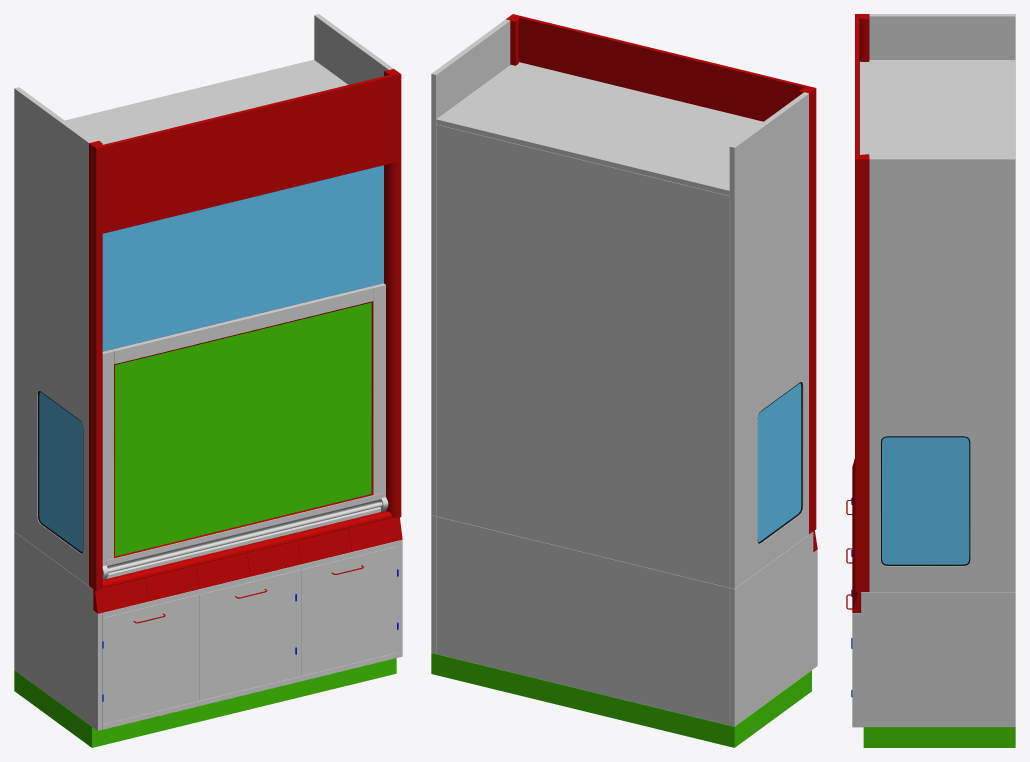
File: Cupboard02.fbx
The picture shows the model from 3 angles, left to right: view 1: azimuth 30°, elevation 25°; view 2: azimuth 150°, elevation 25°; view 3: azimuth 270°, elevation 25°; orthographic projection. The views are drawn at different scales.
Visible parts, largest first — view 1: Cupboard02, CupboardDoor, Drawer01, Drawer02, Drawer03; view 2: Cupboard02; view 3: Cupboard02.
Part boxes in pixels (bbox=[...]): Cupboard02: bbox=[14, 14, 402, 747]; CupboardDoor: bbox=[102, 283, 388, 579]; Drawer01: bbox=[102, 594, 199, 724]; Drawer02: bbox=[199, 571, 295, 700]; Drawer03: bbox=[301, 546, 397, 675]; Cupboard02: bbox=[431, 14, 817, 747]; Cupboard02: bbox=[851, 14, 1015, 747].
Size of the model in its own units: 150 by 73.75 by 283.
